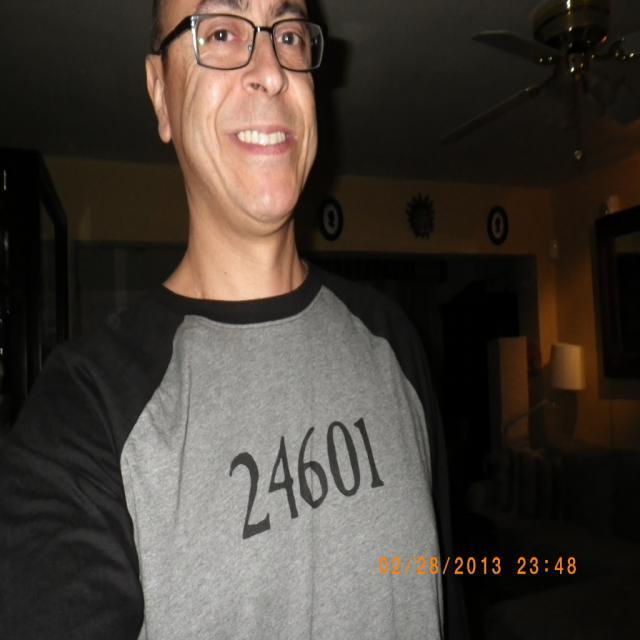fan_off: (440, 0, 640, 145)
